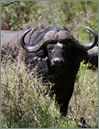buffalo: (20, 25, 98, 117)
